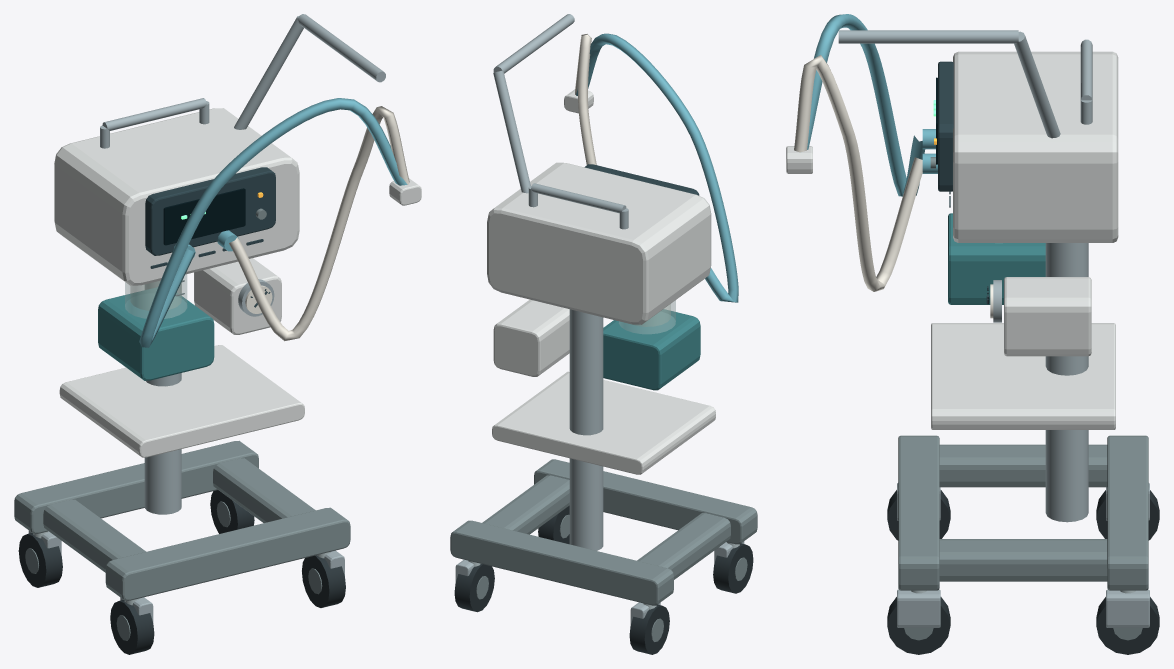
File: neonatal-ventilator.glb
3 views of the same model, side by side, from view 1: azimuth 30°, elevation 25°; view 2: azimuth 150°, elevation 25°; view 3: azimuth 270°, elevation 25° (orthographic). The views are drawn at different scales.
Visible parts, largest first — view 1: neonatal-ventilator-batch (×7), neonatal-ventilator; view 2: neonatal-ventilator-batch (×7), neonatal-ventilator; view 3: neonatal-ventilator-batch (×7), neonatal-ventilator.
Boxes of the visible parts, <box> form: neonatal-ventilator-batch (×7): <box>14,14,421,654</box>; neonatal-ventilator: <box>125,106,409,341</box>; neonatal-ventilator-batch (×7): <box>450,14,757,654</box>; neonatal-ventilator: <box>575,34,675,333</box>; neonatal-ventilator-batch (×7): <box>786,14,1159,654</box>; neonatal-ventilator: <box>794,55,993,318</box>.
Bounding box in the file's own units: 0.68 × 1.43 × 0.7675.
